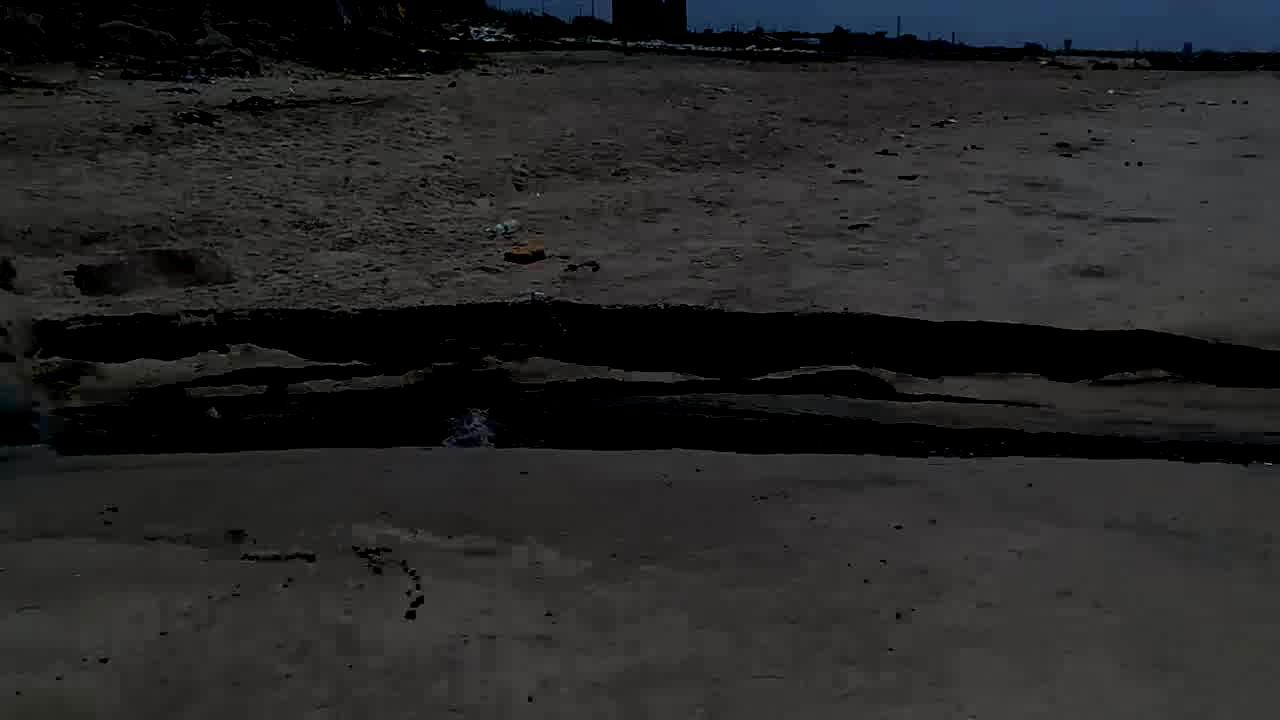large collection of objects: (71, 238, 241, 298)
obj: (504, 241, 546, 264), (488, 220, 526, 236)
sand/background: (4, 0, 1279, 115)
